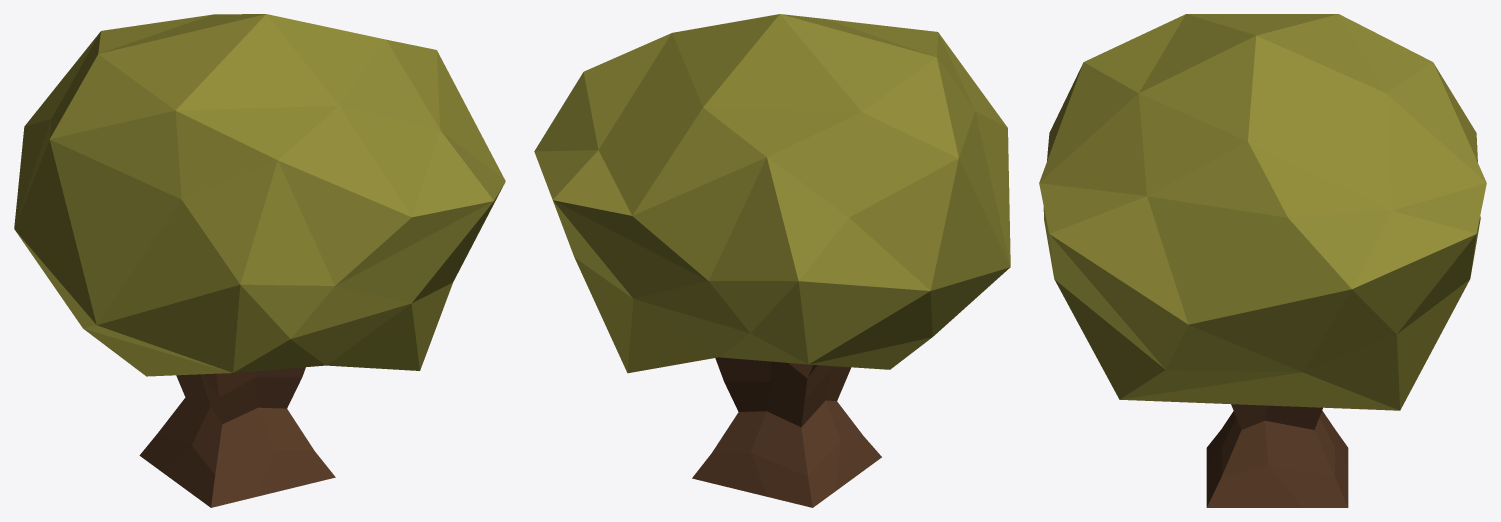
The model's file is Tree_33_Yellow.fbx.
The picture shows the model from 3 angles, left to right: view 1: azimuth 30°, elevation 25°; view 2: azimuth 150°, elevation 25°; view 3: azimuth 270°, elevation 25°; orthographic projection. The views are drawn at different scales.
Visible parts, largest first — view 1: Tree_33_Yellow_Part_1, Tree_33_Yellow_Part_2; view 2: Tree_33_Yellow_Part_1, Tree_33_Yellow_Part_2; view 3: Tree_33_Yellow_Part_1, Tree_33_Yellow_Part_2.
Boxes of the visible parts, left/top/right/bottom form: Tree_33_Yellow_Part_1: left=14, top=14, right=505, bottom=376; Tree_33_Yellow_Part_2: left=139, top=367, right=335, bottom=507; Tree_33_Yellow_Part_1: left=534, top=14, right=1010, bottom=373; Tree_33_Yellow_Part_2: left=692, top=357, right=881, bottom=507; Tree_33_Yellow_Part_1: left=1039, top=14, right=1486, bottom=410; Tree_33_Yellow_Part_2: left=1206, top=404, right=1348, bottom=507.
Bounding box in the file's own units: 762 × 812 × 731.
